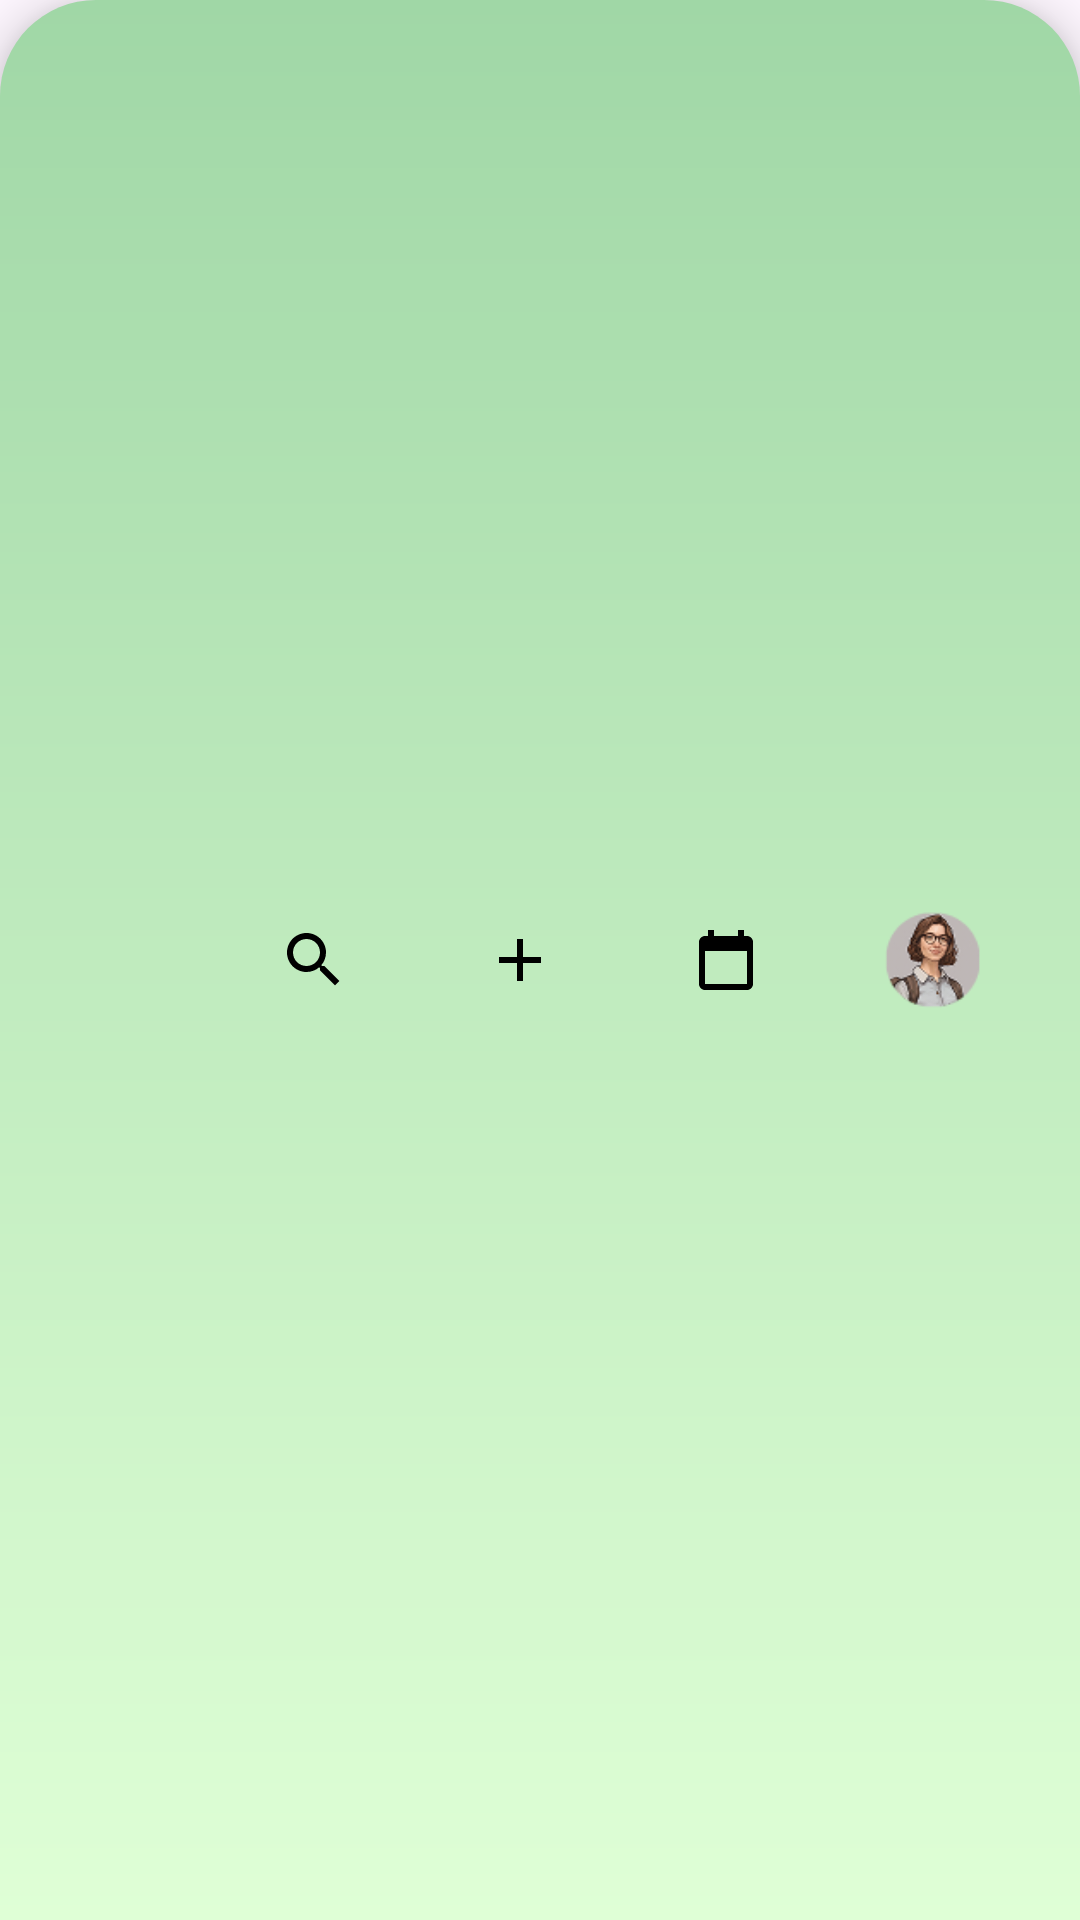

Where icons sit on this 1080x1920 app screen, as Rect(x1, y1, x2, y2):
add: Rect(499, 939, 541, 981)
calendar: Rect(699, 930, 753, 990)
search: Rect(287, 933, 339, 985)
